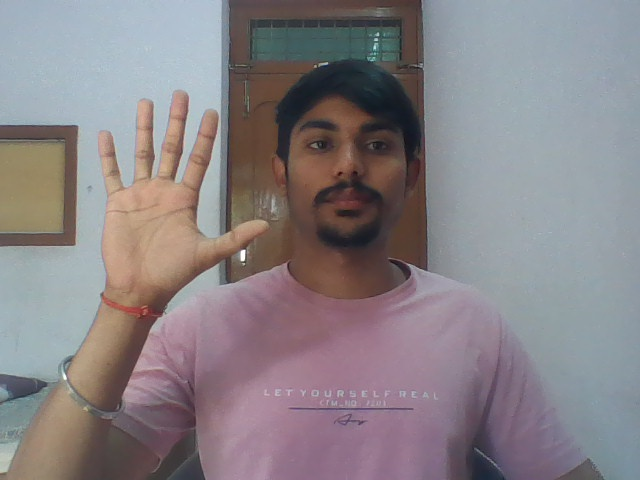Hello: (72, 84, 272, 299)
